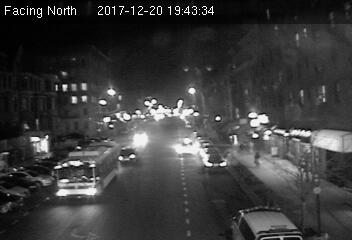bus: (56, 140, 119, 195)
car: (203, 152, 228, 171), (176, 136, 197, 157), (118, 147, 139, 164)
police: (228, 204, 303, 240)
